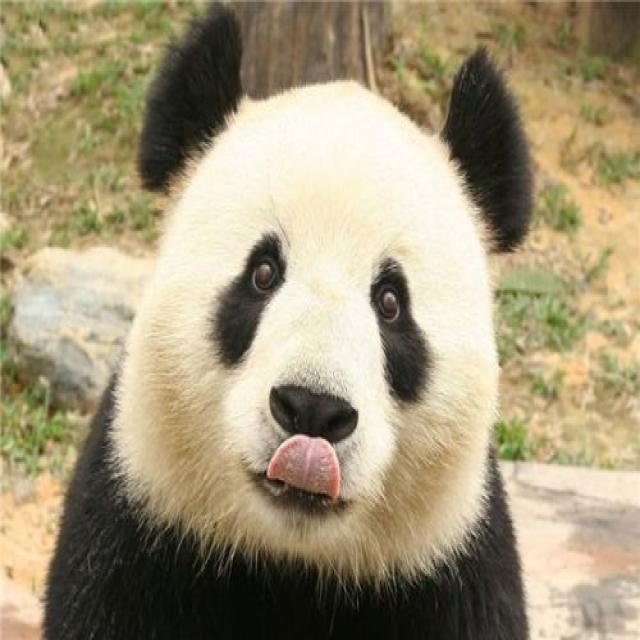panda: (67, 0, 617, 617)
